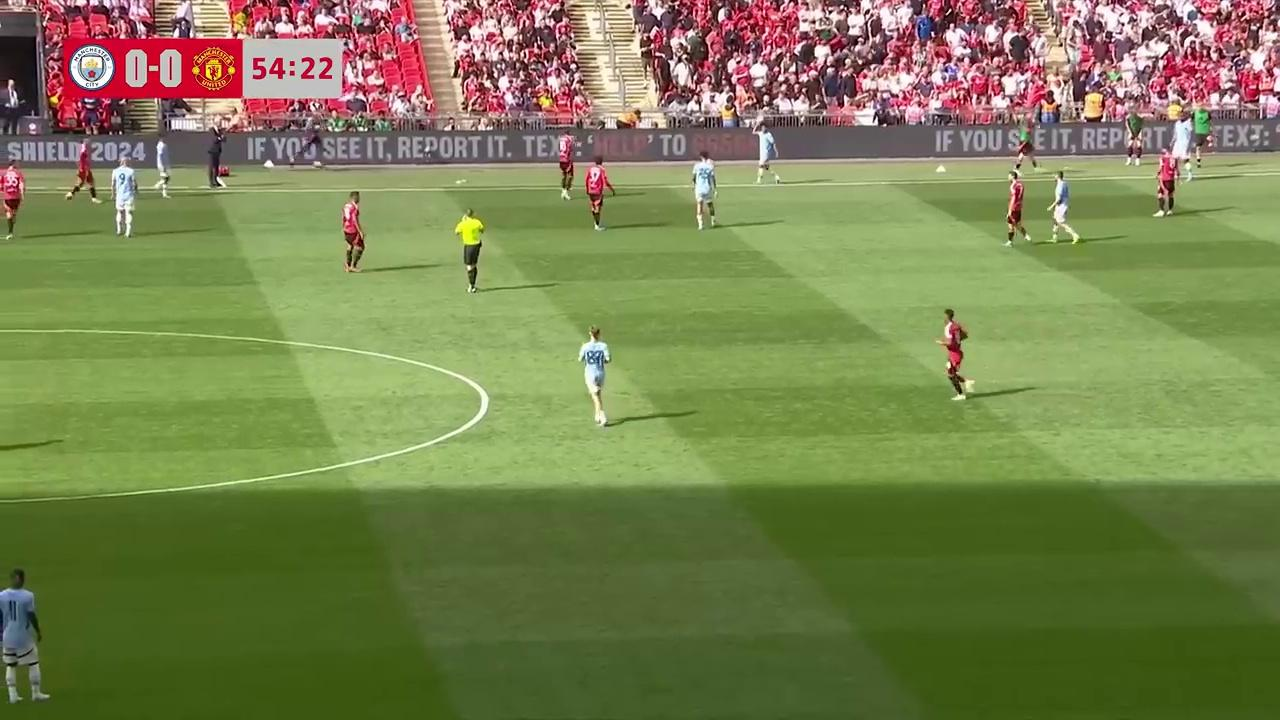player: (0, 567, 49, 705), (578, 326, 611, 427), (936, 308, 971, 399), (584, 158, 616, 232), (1047, 171, 1079, 244), (65, 141, 101, 202), (0, 161, 25, 239), (1005, 172, 1031, 246), (342, 191, 365, 273), (113, 160, 137, 238), (1154, 150, 1177, 216), (695, 162, 717, 229), (756, 128, 780, 184), (150, 137, 171, 198), (557, 139, 574, 200)
referee: (454, 207, 484, 293)
